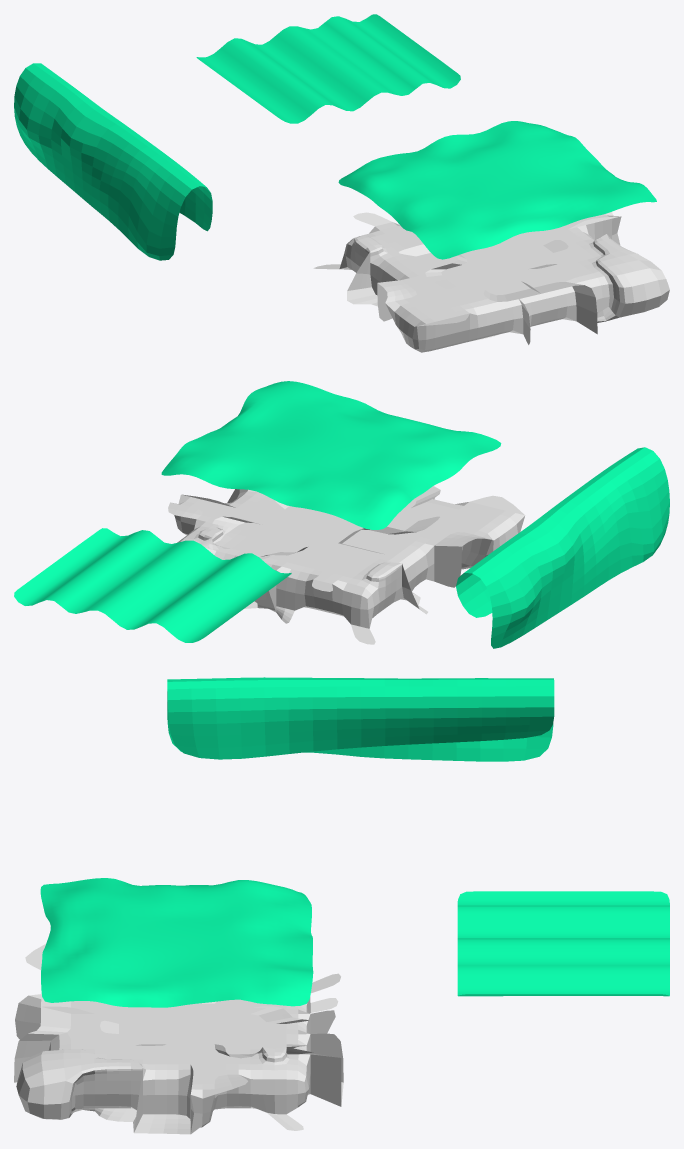
File: Cloth.fbx
3 views of the same model, one above another, from view 1: azimuth 30°, elevation 25°; view 2: azimuth 150°, elevation 25°; view 3: azimuth 270°, elevation 25° (orthographic). The views are drawn at different scales.
Parts seen in each view (by area): view 1: Cube, Plane.002, Plane.003, Plane; view 2: Cube, Plane.002, Plane.003, Plane; view 3: Cube, Plane.002, Plane.003, Plane.
Part boxes in pixels (left/top/right/bottom): Cube: left=313, top=212, right=669, bottom=352; Plane.002: left=338, top=121, right=656, bottom=259; Plane.003: left=14, top=63, right=212, bottom=260; Plane: left=196, top=14, right=460, bottom=123; Cube: left=168, top=486, right=525, bottom=644; Plane.002: left=161, top=381, right=501, bottom=529; Plane.003: left=456, top=447, right=669, bottom=648; Plane: left=14, top=528, right=291, bottom=642; Cube: left=14, top=944, right=343, bottom=1134; Plane.002: left=40, top=878, right=313, bottom=1007; Plane.003: left=167, top=677, right=554, bottom=761; Plane: left=457, top=891, right=669, bottom=996.
Size of the model in its own units: 2841 by 1085 by 2989.
